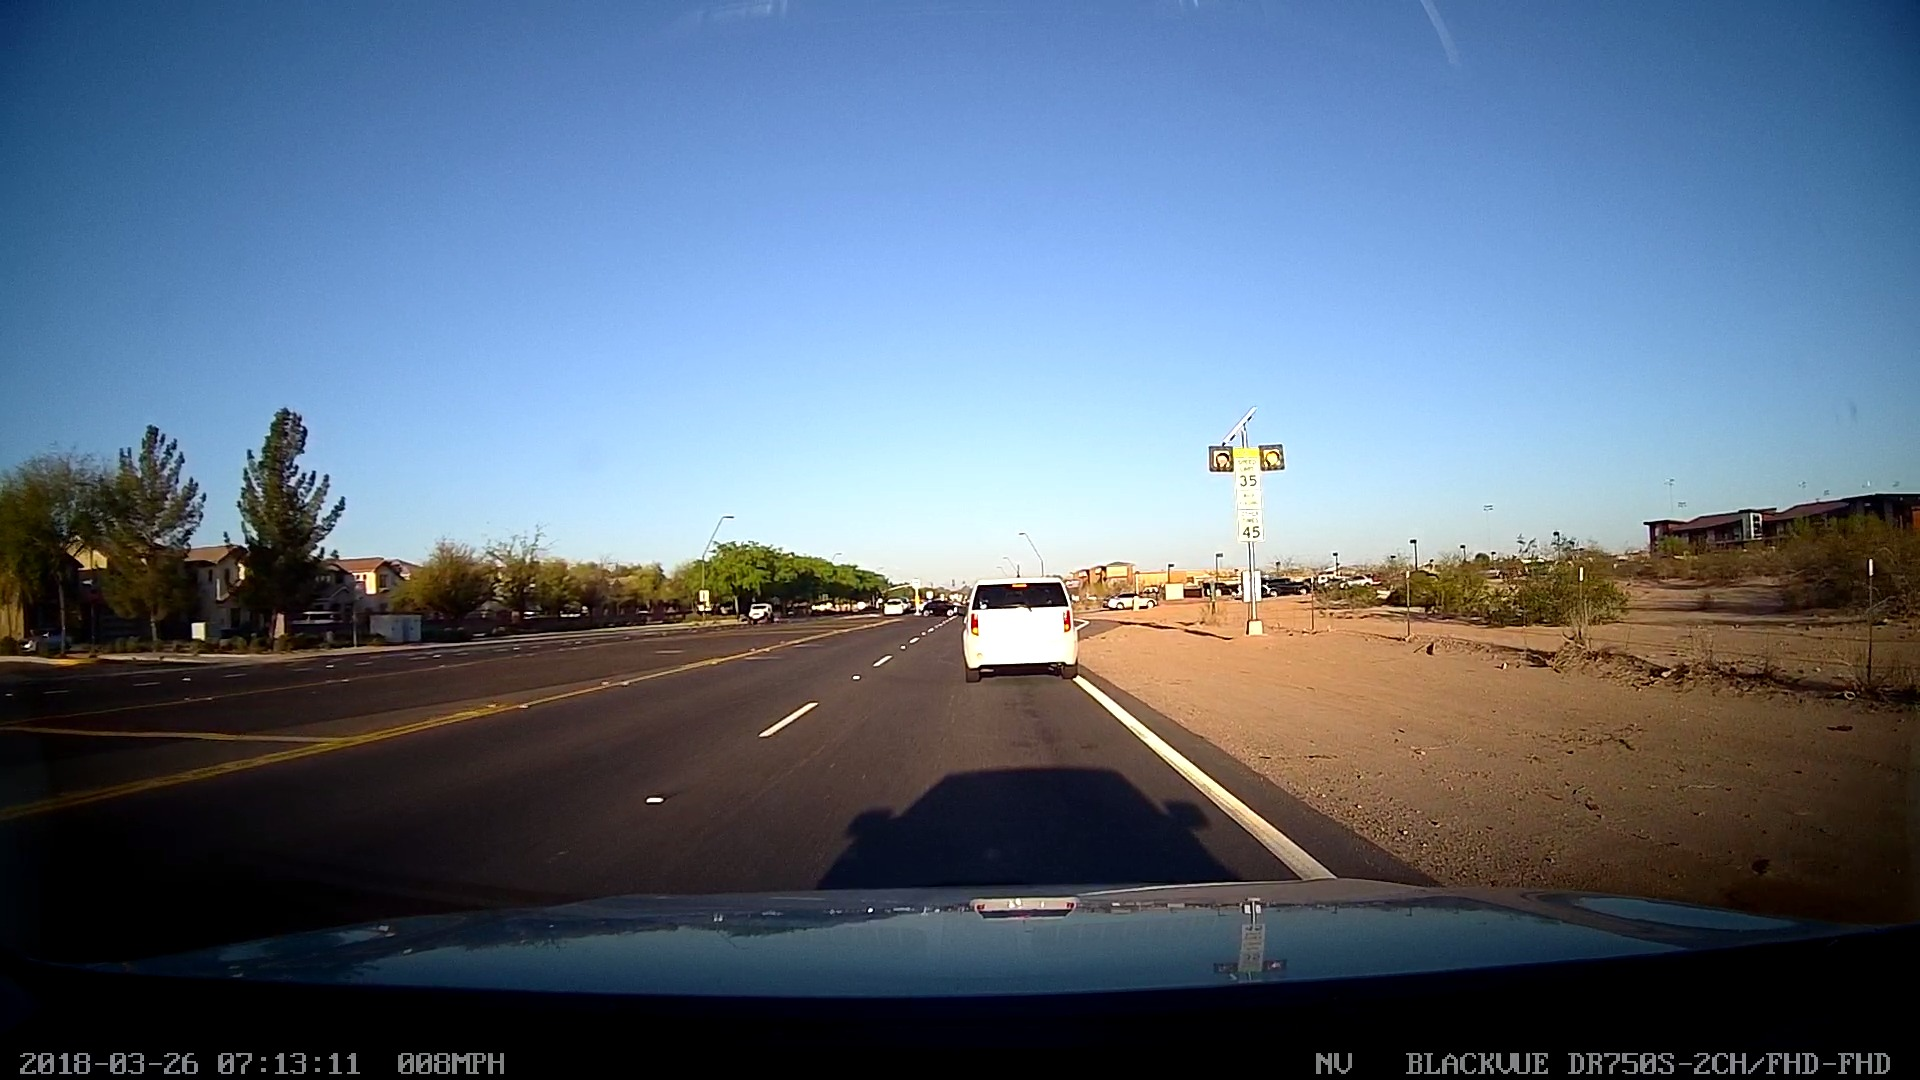vehicle: (953, 566, 1081, 686), (737, 593, 774, 624)
